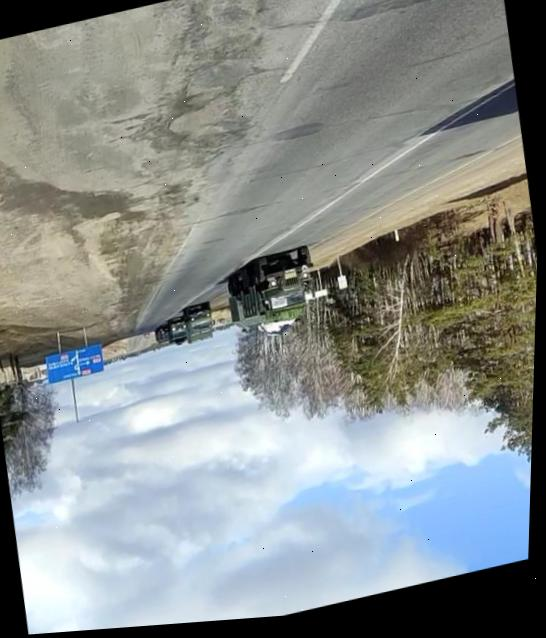truck: (217, 239, 335, 351), (177, 295, 221, 349)
